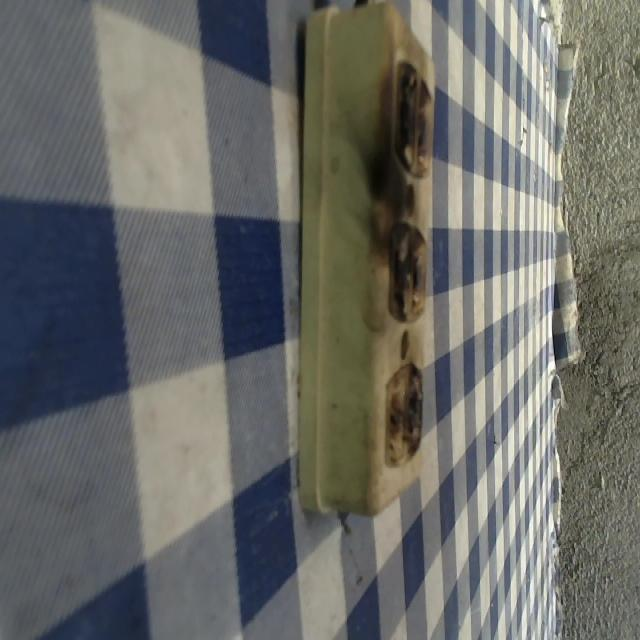-: (389, 54, 433, 174), (381, 357, 423, 468), (384, 221, 429, 323)
